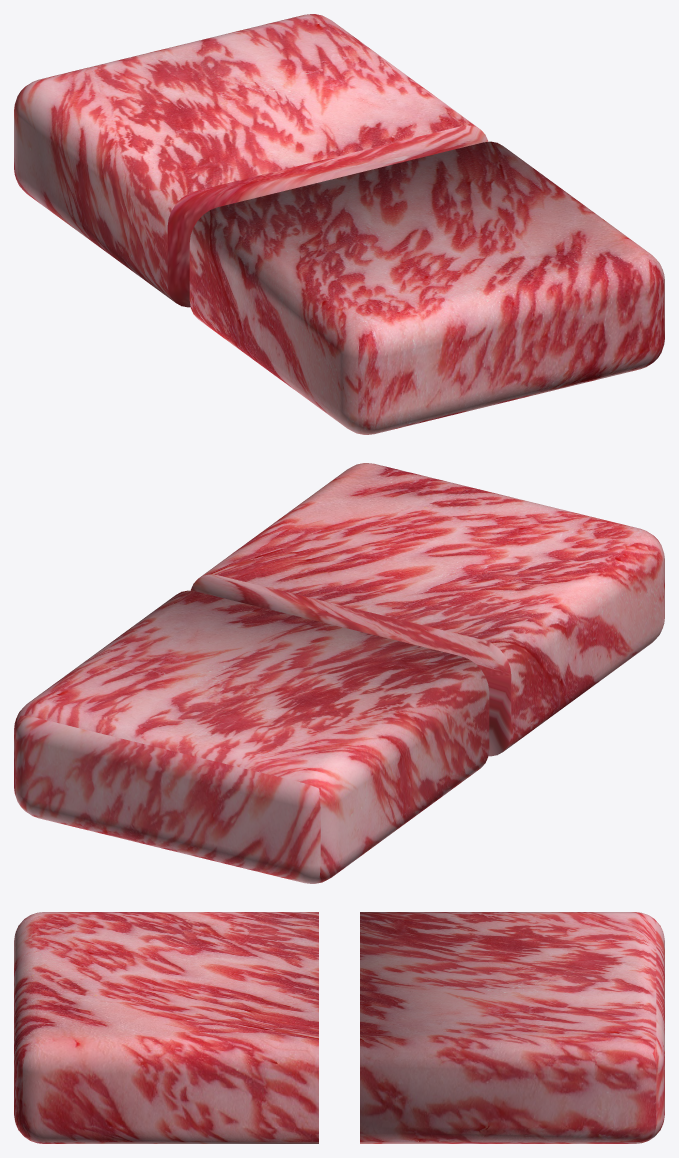
Rendered from MeatCut01.fbx.
3 renders of one model, top to bottom at view 1: azimuth 30°, elevation 25°; view 2: azimuth 150°, elevation 25°; view 3: azimuth 270°, elevation 25°, orthographic. The views are drawn at different scales.
Parts seen in each view (by area): view 1: pCube5.001, pCube5; view 2: pCube5, pCube5.001; view 3: pCube5, pCube5.001.
Part boxes in pixels (x1=…): pCube5.001: x1=189, y1=141, x2=664, y2=434; pCube5: x1=14, y1=14, x2=488, y2=307; pCube5: x1=14, y1=590, x2=489, y2=883; pCube5.001: x1=190, y1=463, x2=664, y2=756; pCube5: x1=360, y1=912, x2=664, y2=1143; pCube5.001: x1=14, y1=912, x2=318, y2=1143.
Size of the model in its own units: 3.54 by 1.21 by 6.72.
